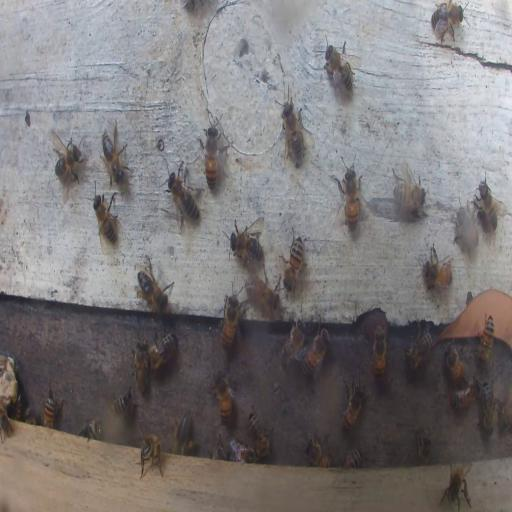nonpollenbee: (278, 84, 306, 164), (166, 165, 200, 227), (321, 38, 355, 99), (472, 174, 504, 234), (136, 264, 174, 314), (51, 133, 86, 187), (101, 120, 129, 184), (440, 461, 474, 511), (226, 220, 264, 264), (392, 167, 427, 214), (92, 189, 120, 247), (244, 274, 280, 316), (452, 201, 482, 251), (302, 324, 328, 381), (430, 2, 466, 42), (282, 230, 305, 292), (402, 324, 434, 368), (341, 156, 359, 230), (424, 248, 453, 291), (148, 326, 176, 370), (222, 292, 242, 352), (342, 382, 364, 433), (248, 412, 271, 460), (281, 319, 305, 365), (138, 434, 163, 478), (133, 338, 150, 397), (443, 343, 468, 382), (450, 379, 478, 412), (480, 380, 496, 436), (215, 373, 232, 425), (204, 127, 218, 190), (305, 435, 332, 467), (478, 314, 494, 364), (111, 383, 133, 415), (373, 325, 386, 379), (43, 388, 58, 430), (415, 428, 432, 464), (230, 440, 257, 462), (78, 418, 103, 440), (339, 448, 361, 468), (10, 399, 28, 420), (1, 400, 10, 438), (212, 437, 226, 458)
pollenbee: (172, 410, 195, 454)
